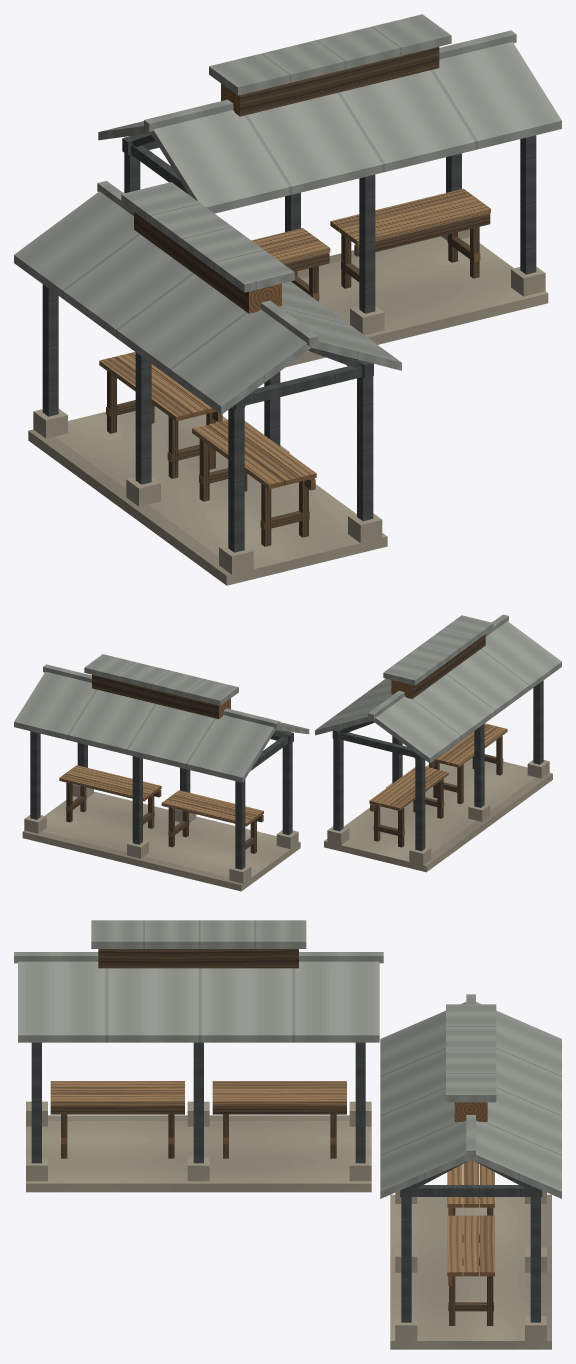
The picture shows the model from 3 angles, top to bottom: view 1: azimuth 30°, elevation 25°; view 2: azimuth 150°, elevation 25°; view 3: azimuth 270°, elevation 25°; orthographic projection. The views are drawn at different scales.
Visible parts, largest first — view 1: ado-ekiti; view 2: ado-ekiti; view 3: ado-ekiti.
Part boxes in pixels (left/top/right/bottom): ado-ekiti: left=14, top=14, right=561, bottom=585; ado-ekiti: left=14, top=614, right=561, bottom=891; ado-ekiti: left=14, top=920, right=561, bottom=1349.
Size of the model in its own units: 5.55 by 2.5 by 5.47.
Materials: 1 (1 with a texture image).
